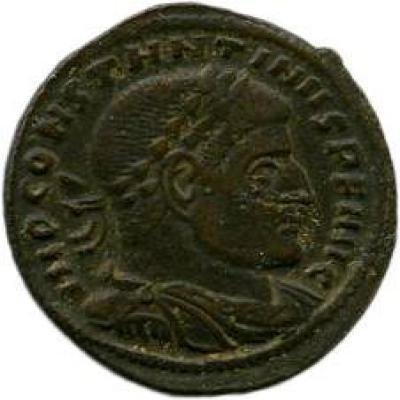numismatics: (5, 3, 396, 397)
